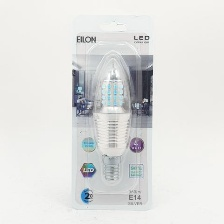book: (63, 4, 157, 214)
light_bulb: (86, 46, 135, 194)
